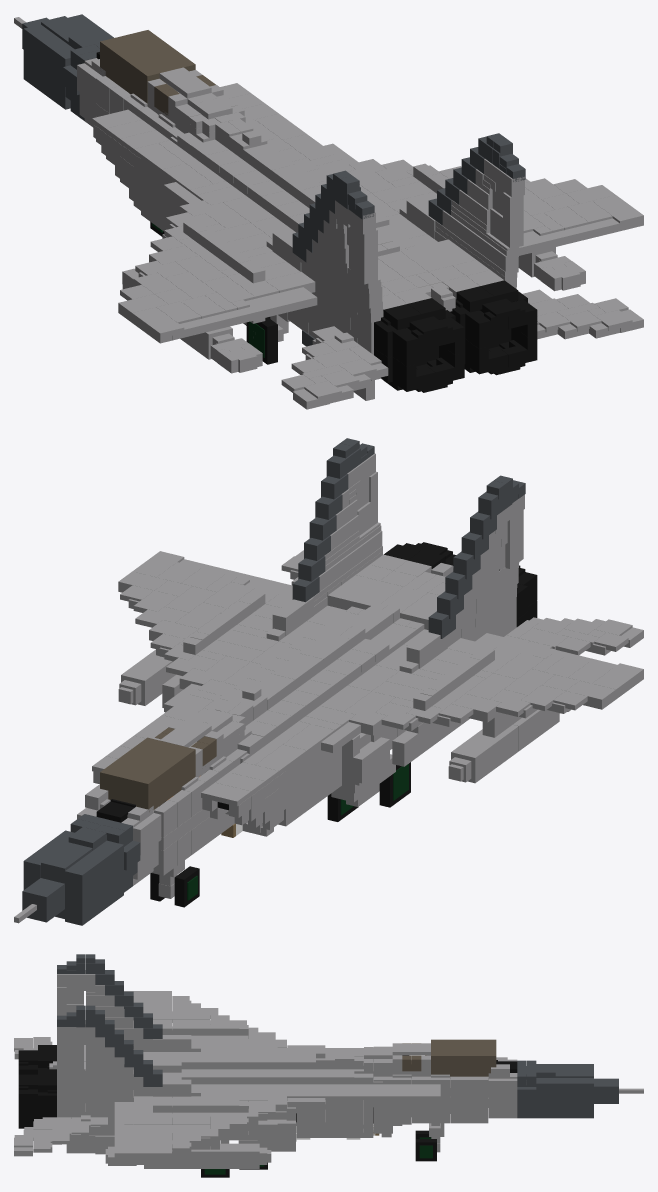
The model's file is mig31-lego.glb.
3 views of the same model, one above another, from view 1: azimuth 30°, elevation 25°; view 2: azimuth 150°, elevation 25°; view 3: azimuth 270°, elevation 25° (orthographic). The views are drawn at different scales.
Visible parts, largest first — view 1: MiG-31 Foxhound (LEGO); view 2: MiG-31 Foxhound (LEGO); view 3: MiG-31 Foxhound (LEGO).
Boxes of the visible parts, x1,y1,x2,y2 form: MiG-31 Foxhound (LEGO): (14, 14, 643, 409); MiG-31 Foxhound (LEGO): (14, 438, 643, 925); MiG-31 Foxhound (LEGO): (14, 954, 643, 1177).
Bounding box in the file's own units: 13.81 × 6.9 × 22.7.
